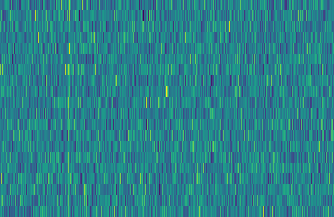signal: (61, 0, 71, 217)
